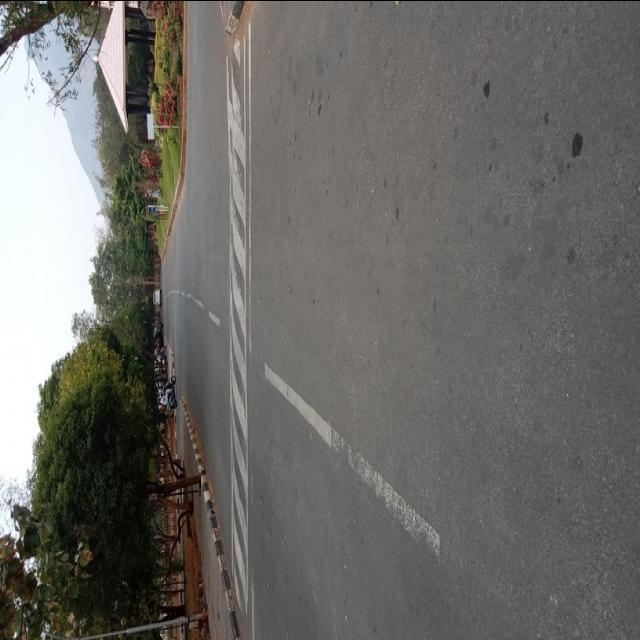speedbreaker: (222, 21, 254, 638)
